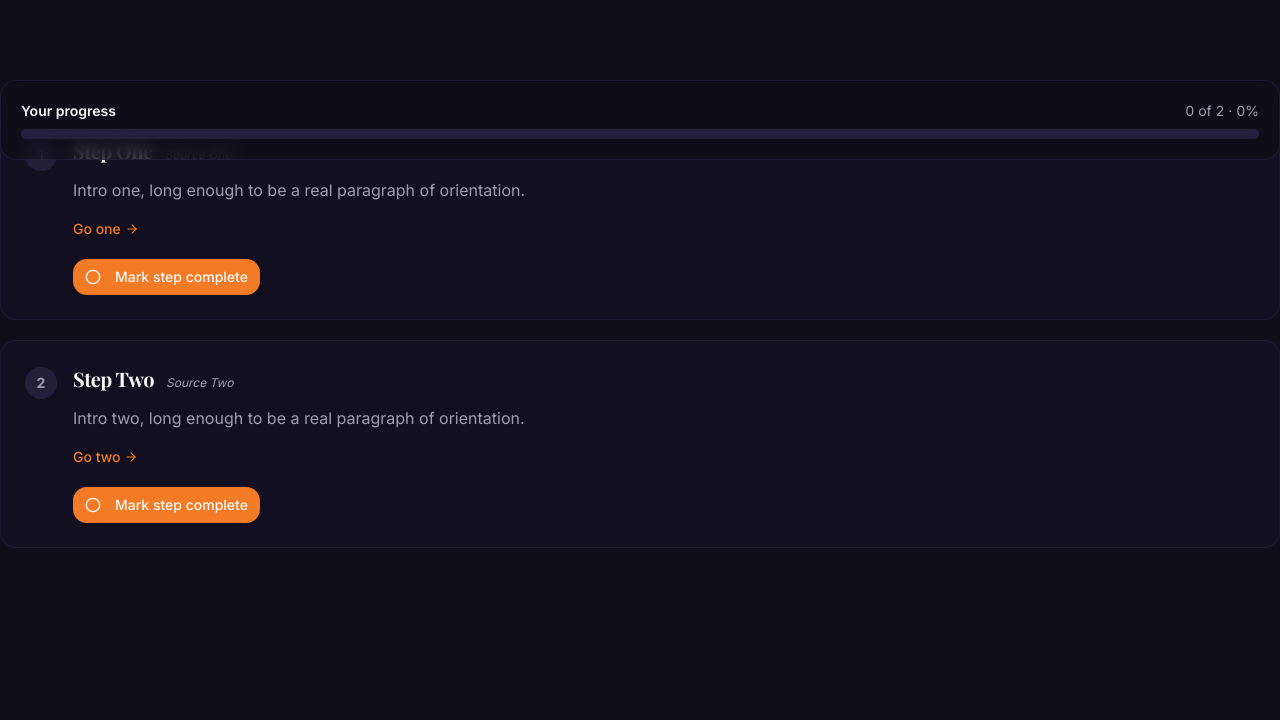
PathDetailClient › shows the completion block only once every step is done
The image size is (1280, 720).
Expected: the text "All six darshanas" is not shown
Step 1. Click the button "Mark step complete" below "Go one" → (166, 277), box [73,259,260,295]
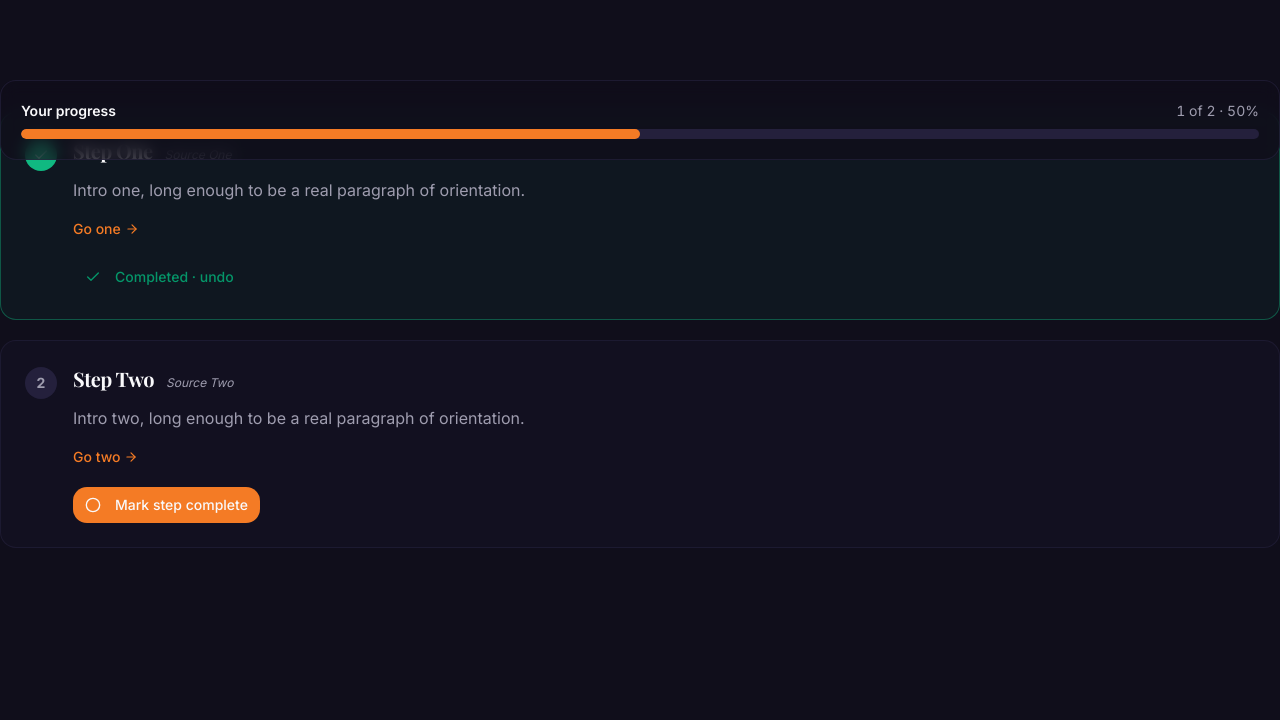
Step 2. Click the button "Mark step complete" → (166, 505), box [73,487,260,523]
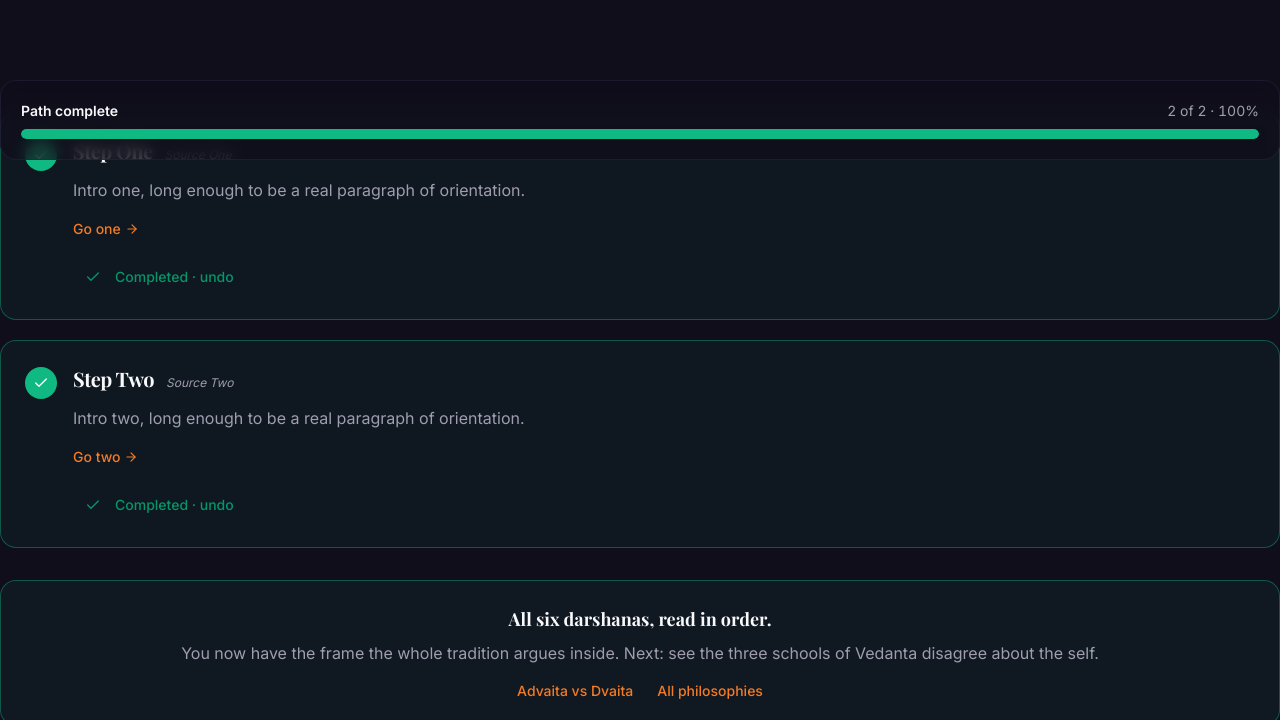
Expected: the text "All six darshanas, read in order." is shown, [508,607,772,631]
Expected: the text "Path complete" is shown, [21,101,118,121]
